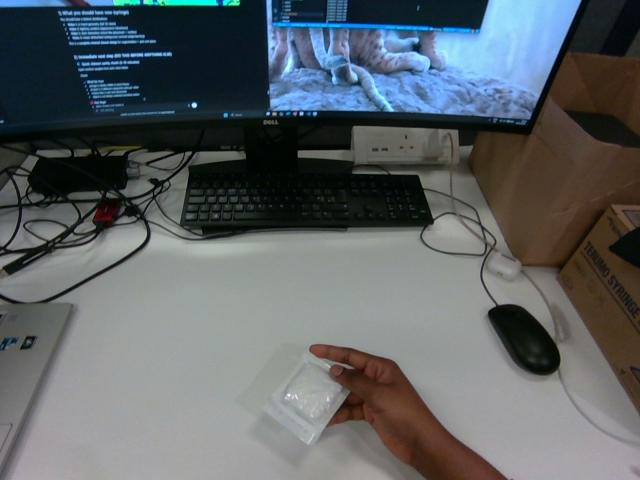gauze: (264, 352, 348, 444)
